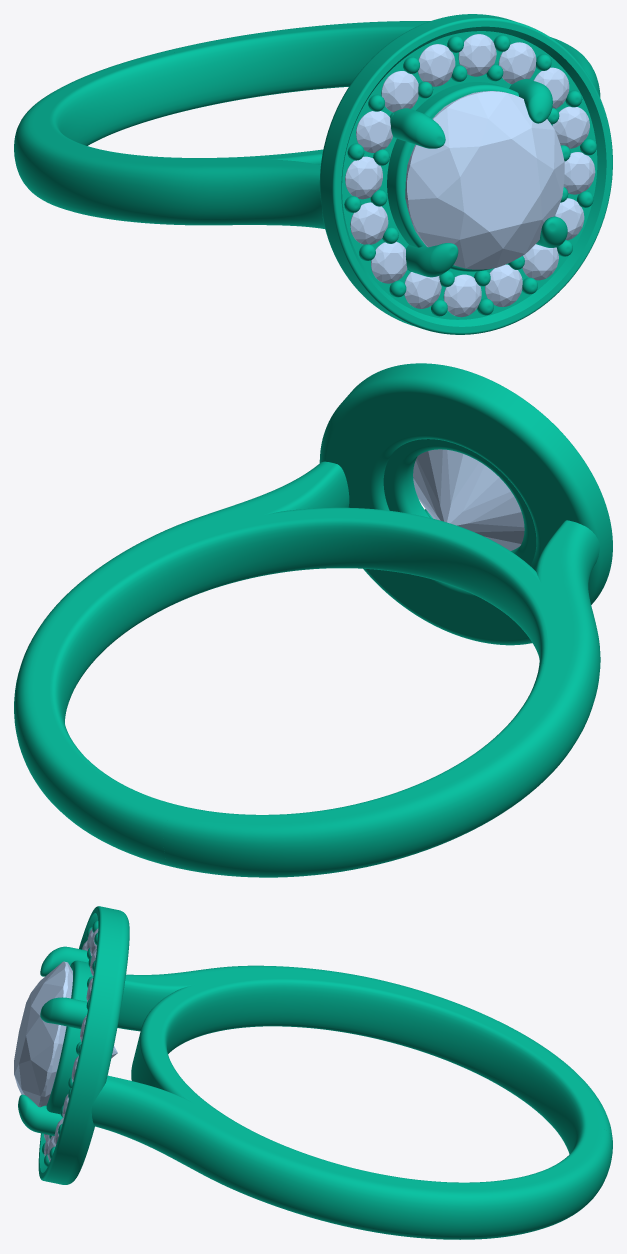
The picture shows the model from 3 angles, top to bottom: view 1: azimuth 30°, elevation 25°; view 2: azimuth 150°, elevation 25°; view 3: azimuth 270°, elevation 25°; orthographic projection. The views are drawn at different scales.
Parts seen in each view (by area): view 1: JTC-9858(base).3dm, Diamond_Round (×17); view 2: JTC-9858(base).3dm, Diamond_Round; view 3: JTC-9858(base).3dm, Diamond_Round.
Boxes of the visible parts, <box> form: JTC-9858(base).3dm: <box>14,14,612,334</box>; Diamond_Round (×17): <box>345,34,595,317</box>; JTC-9858(base).3dm: <box>14,363,612,877</box>; Diamond_Round: <box>413,449,524,550</box>; JTC-9858(base).3dm: <box>18,906,612,1239</box>; Diamond_Round: <box>14,961,117,1107</box>.
Size of the model in its own units: 2.45 by 1.34 by 2.86.
